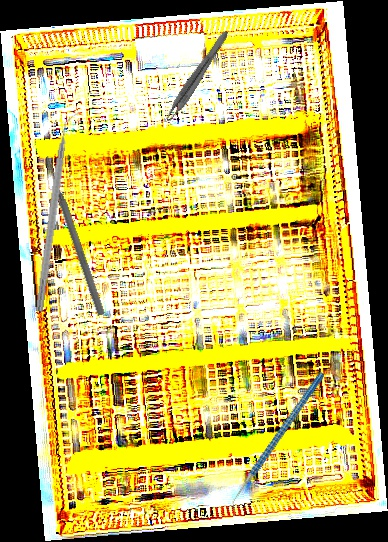Chopper: (194, 372, 361, 517), (34, 109, 83, 314)
Pusher: (42, 154, 107, 317)
Tissue Forceps: (159, 26, 231, 128)
